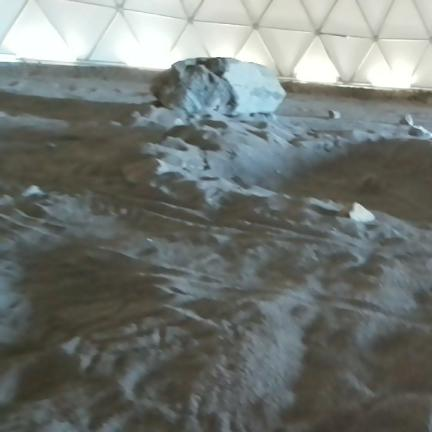Rock: (152, 57, 285, 115), (338, 203, 375, 223), (409, 125, 431, 139), (23, 185, 43, 196), (399, 114, 413, 126), (328, 110, 340, 119)
